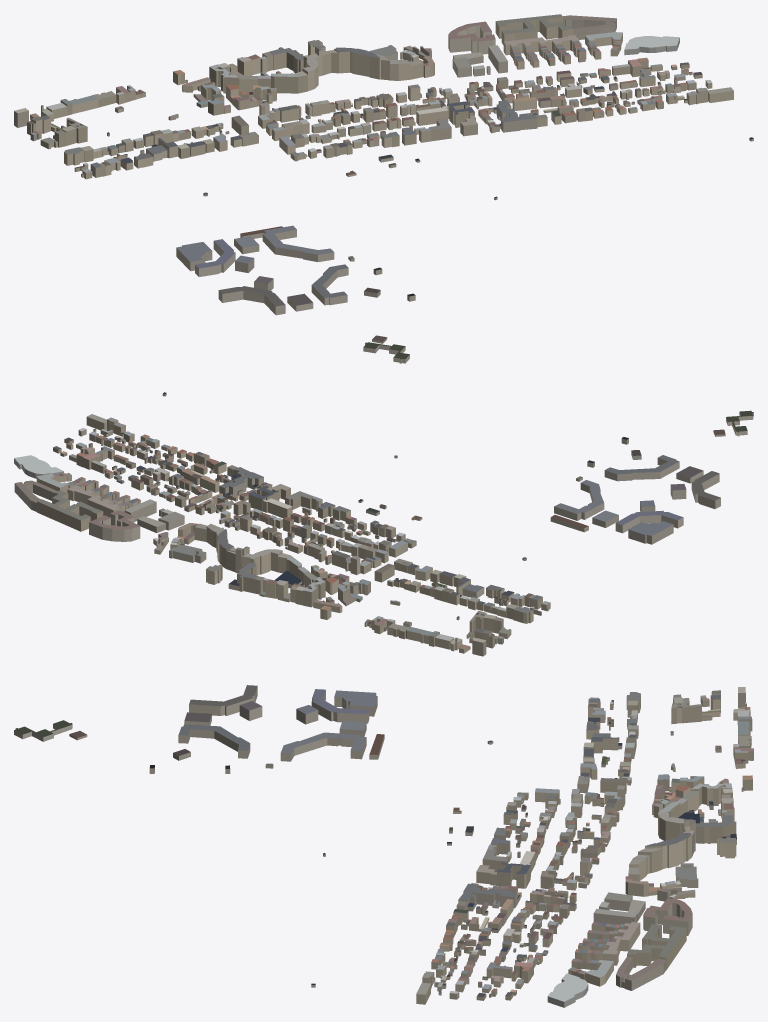
3 renders of one model, top to bottom at view 1: azimuth 30°, elevation 25°; view 2: azimuth 150°, elevation 25°; view 3: azimuth 270°, elevation 25°, orthographic. The views are drawn at different scales.
Visible parts, largest first — view 1: tuile; view 2: tuile; view 3: tuile.
Boxes of the visible parts, x1,y1,x2,y2 form: tuile: (14, 14, 753, 363); tuile: (14, 392, 753, 656); tuile: (14, 685, 753, 1007).
Bounding box in the file's own units: 1069 × 55.22 × 1048.
